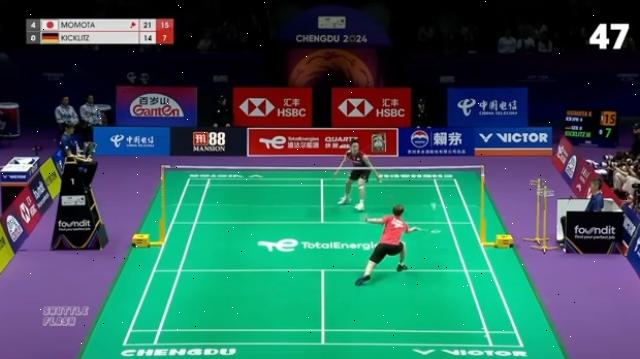Shuttlecock: (430, 202, 438, 210)
